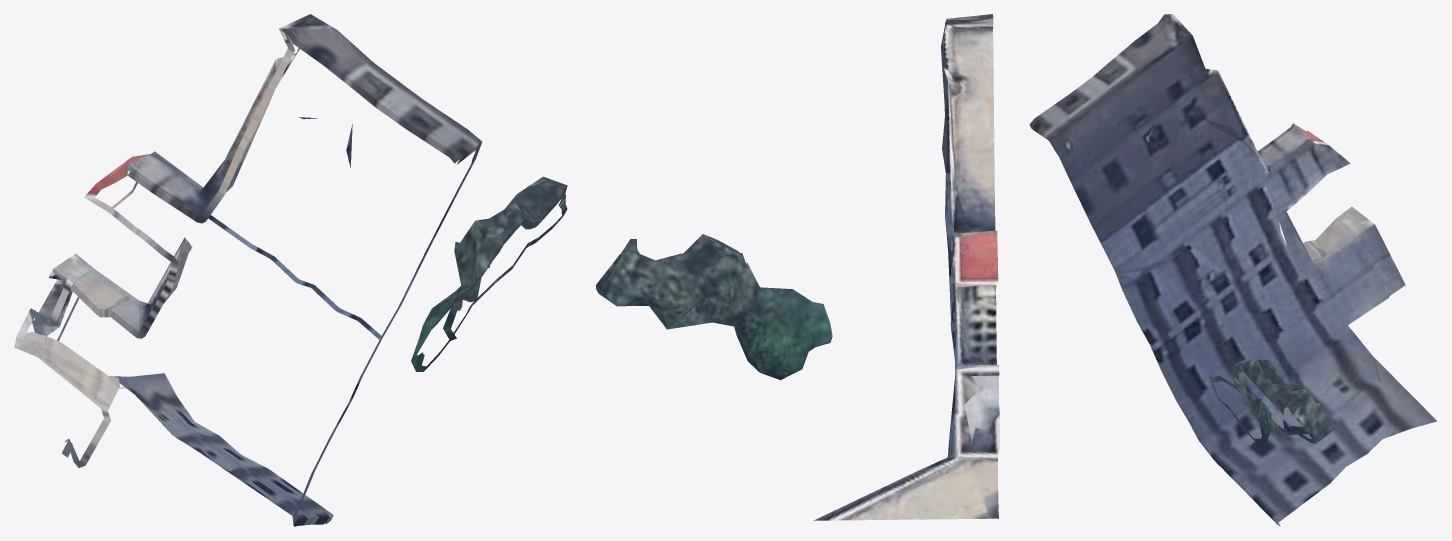
The picture shows the model from 3 angles, left to right: view 1: azimuth 30°, elevation 25°; view 2: azimuth 150°, elevation 25°; view 3: azimuth 270°, elevation 25°; orthographic projection. The views are drawn at different scales.
Size of the model in its own units: 35.9 by 38.43 by 30.4.
1 material, 1 textured.
